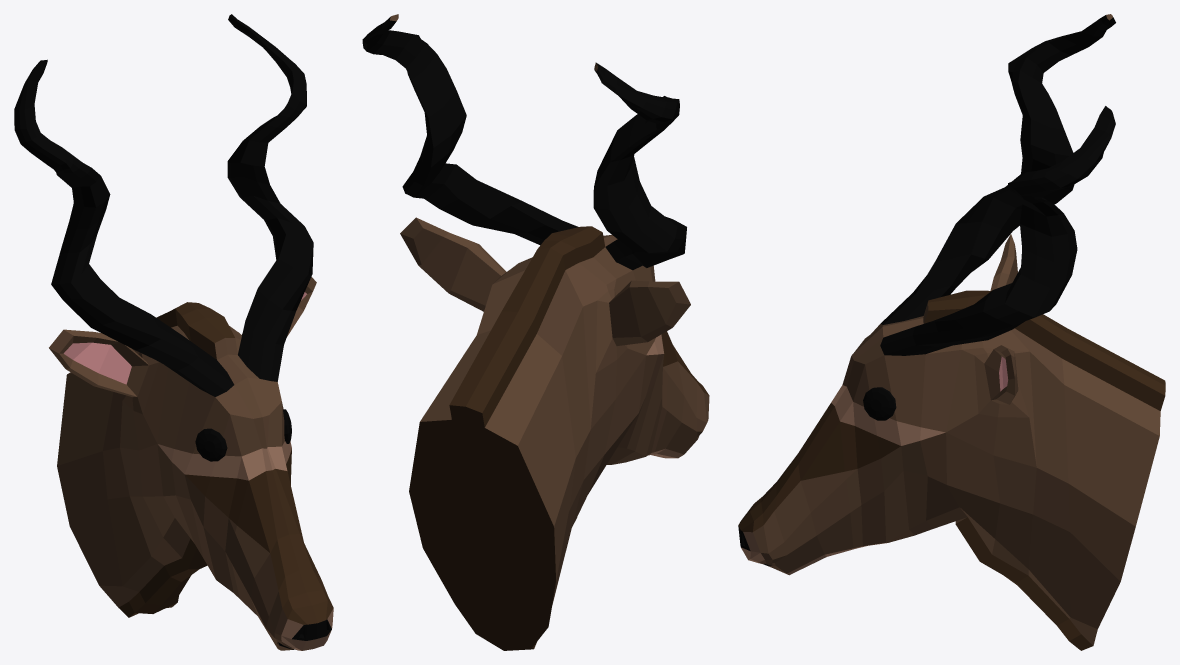
Rendered from kuduHead.fbx.
3 views of the same model, side by side, from view 1: azimuth 30°, elevation 25°; view 2: azimuth 150°, elevation 25°; view 3: azimuth 270°, elevation 25° (orthographic). The views are drawn at different scales.
Visible parts, largest first — view 1: Kudo.001; view 2: Kudo.001; view 3: Kudo.001.
Part boxes in pixels (x1=…): Kudo.001: x1=14, y1=14, x2=333, y2=650; Kudo.001: x1=362, y1=14, x2=709, y2=650; Kudo.001: x1=738, y1=14, x2=1165, y2=650.
Bounding box in the file's own units: 25.78 × 50.15 × 33.35.
